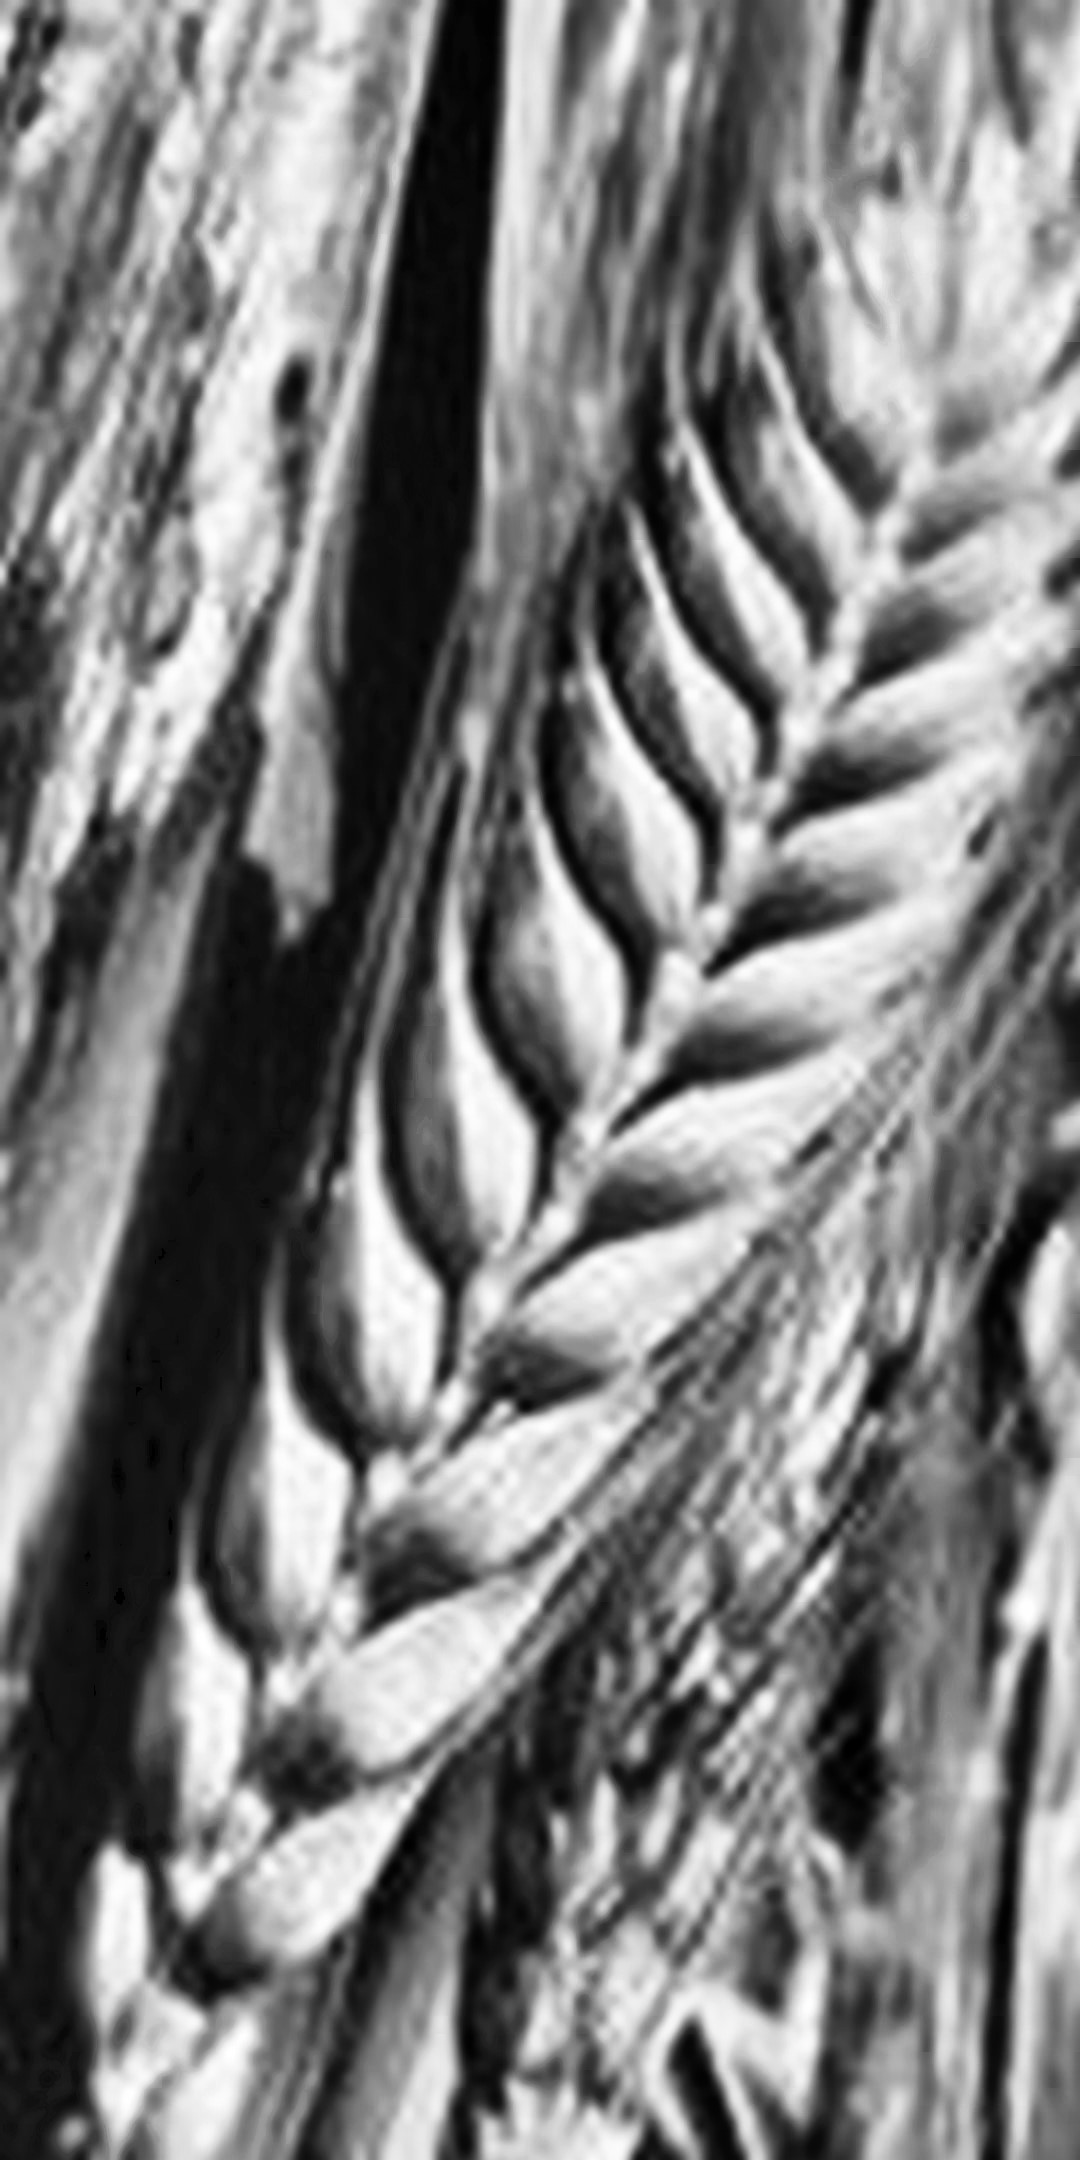Healthy Wheat: (156, 201, 1080, 1997)
